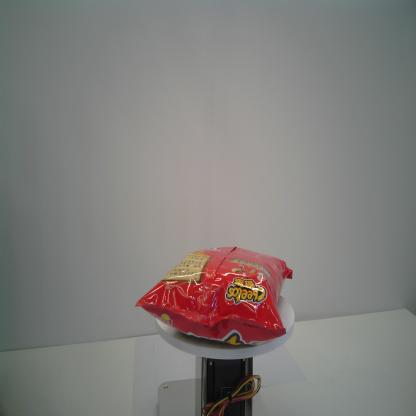Puffed Food: (133, 243, 296, 346)
